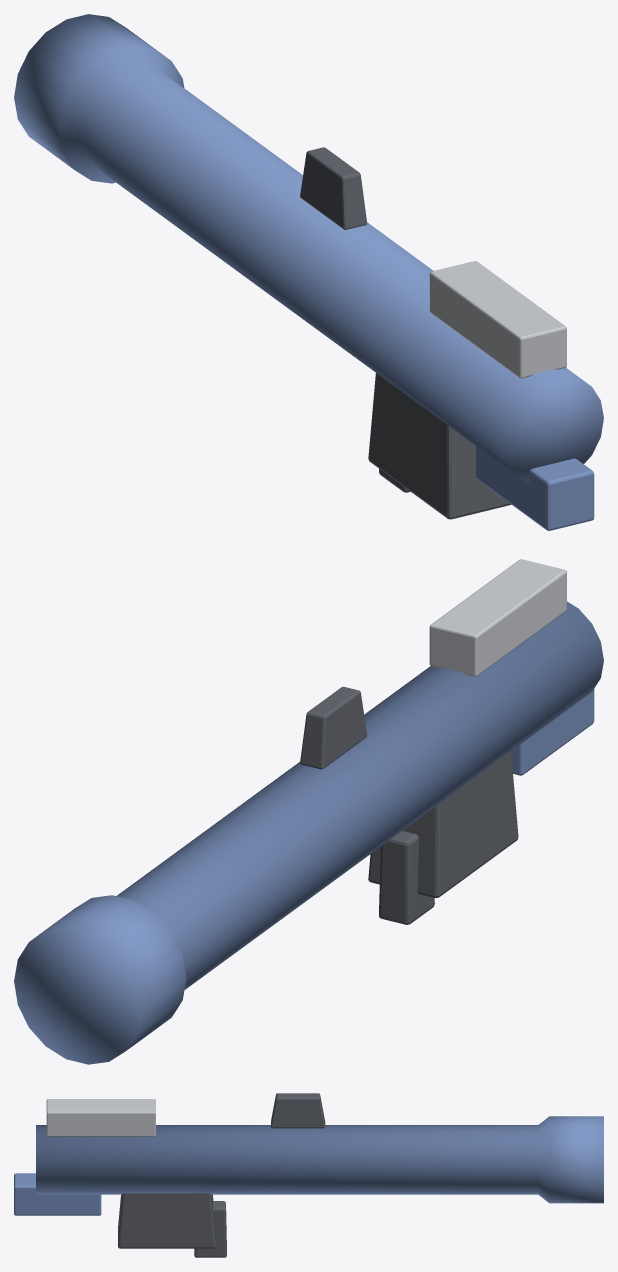
Rendered from weapon_bazooka_live.glb.
3 views of the same model, one above another, from view 1: azimuth 30°, elevation 25°; view 2: azimuth 150°, elevation 25°; view 3: azimuth 270°, elevation 25° (orthographic). The views are drawn at different scales.
Visible parts, largest first — view 1: tube, magazine, shell_rack, shoulder_rest, sight; view 2: tube, shell_rack, magazine, sight, grip, shoulder_rest; view 3: tube, magazine, shell_rack, shoulder_rest, sight, grip.
Boxes of the visible parts, left/top/right/bottom form: tube: left=14, top=14, right=603, bottom=482; magazine: left=368, top=373, right=511, bottom=519; shell_rack: left=429, top=261, right=566, bottom=378; shoulder_rest: left=475, top=446, right=594, bottom=530; sight: left=300, top=147, right=367, bottom=229; tube: left=14, top=601, right=603, bottom=1064; shell_rack: left=429, top=559, right=566, bottom=676; magazine: left=368, top=751, right=518, bottom=897; sight: left=300, top=687, right=367, bottom=769; grip: left=379, top=831, right=434, bottom=924; shoulder_rest: left=511, top=689, right=594, bottom=775; tube: left=36, top=1116, right=603, bottom=1203; magazine: left=118, top=1193, right=215, bottom=1248; shell_rack: left=46, top=1099, right=155, bottom=1136; shoulder_rest: left=14, top=1173, right=101, bottom=1215; sight: left=271, top=1093, right=325, bottom=1128; grip: left=194, top=1201, right=226, bottom=1257.
Size of the model in its own units: 1.36 by 2.72 by 9.18.
